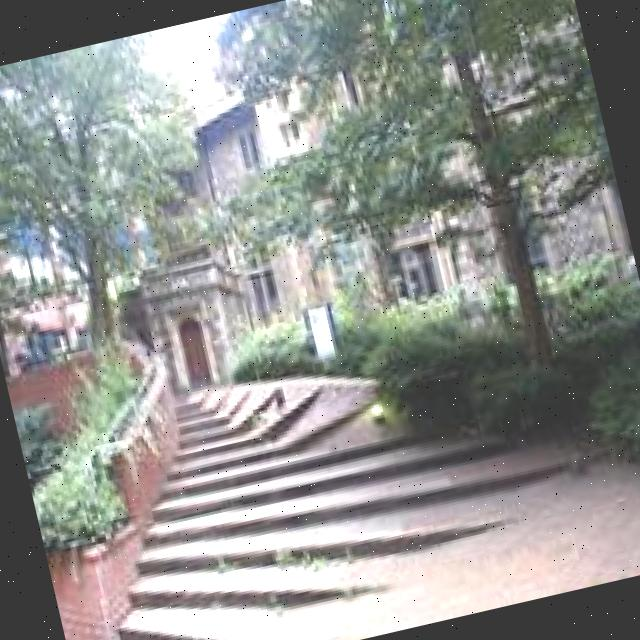stairs: (132, 259, 598, 640)
